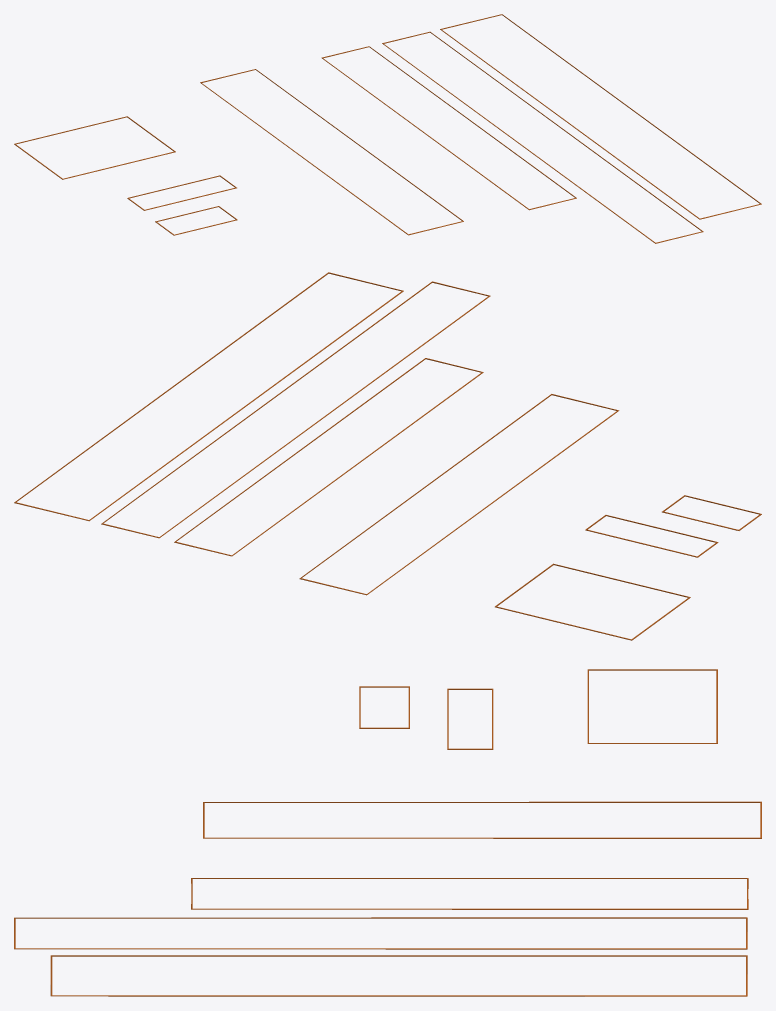
The model's file is kuang.glb.
3 renders of one model, top to bottom at view 1: azimuth 30°, elevation 25°; view 2: azimuth 150°, elevation 25°; view 3: azimuth 270°, elevation 25°, orthographic. The views are drawn at different scales.
Visible parts, largest first — view 1: kuangkuang_01, kuangkuang_02, kuangkuang_04, kuangkuang_03, kuangkuang_07; view 2: kuangkuang_01, kuangkuang_02, kuangkuang_04, kuangkuang_03, kuangkuang_07; view 3: kuangkuang_02, kuangkuang_01, kuangkuang_04, kuangkuang_03, kuangkuang_07.
Boxes of the visible parts, left/top/right/bottom form: kuangkuang_01: left=440, top=14, right=761, bottom=219; kuangkuang_02: left=382, top=31, right=703, bottom=243; kuangkuang_04: left=200, top=69, right=463, bottom=235; kuangkuang_03: left=321, top=46, right=576, bottom=210; kuangkuang_07: left=14, top=116, right=175, bottom=179; kuangkuang_01: left=14, top=272, right=403, bottom=521; kuangkuang_02: left=101, top=281, right=490, bottom=538; kuangkuang_04: left=299, top=394, right=619, bottom=595; kuangkuang_03: left=174, top=358, right=483, bottom=556; kuangkuang_07: left=495, top=563, right=690, bottom=640; kuangkuang_02: left=14, top=917, right=747, bottom=949; kuangkuang_01: left=50, top=955, right=747, bottom=996; kuangkuang_04: left=203, top=801, right=761, bottom=838; kuangkuang_03: left=191, top=878, right=748, bottom=909; kuangkuang_07: left=587, top=669, right=717, bottom=743.
Size of the model in its own units: 49.41 by 0.0629 by 47.8.
